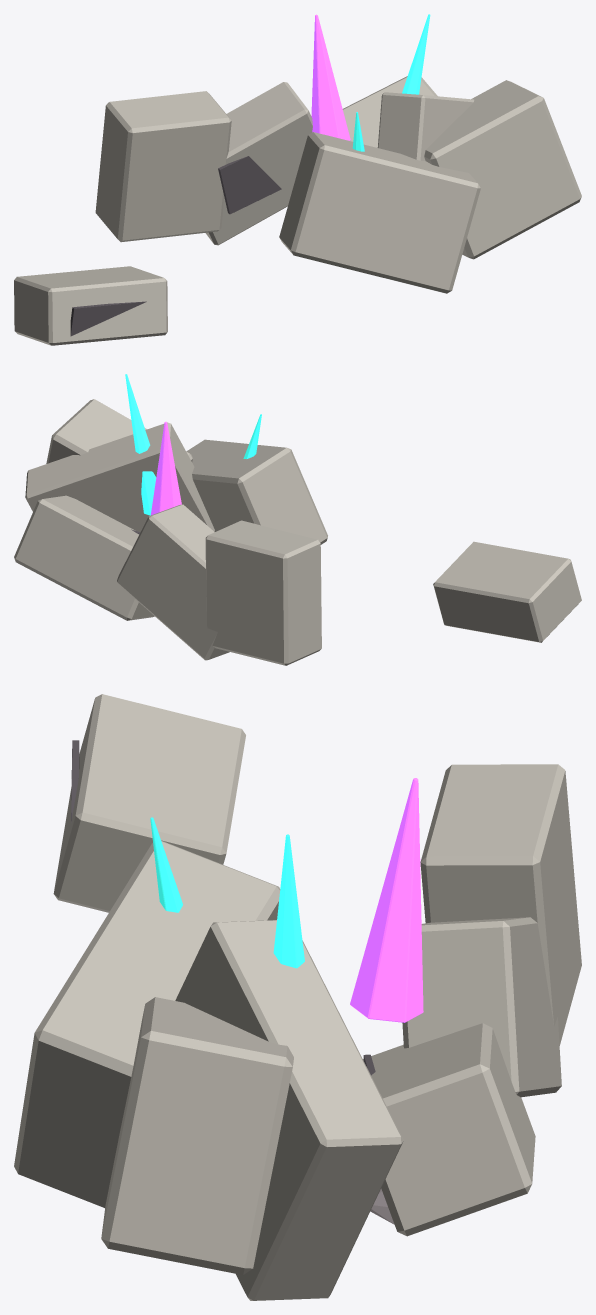
File: runtime.glb
The picture shows the model from 3 angles, top to bottom: view 1: azimuth 30°, elevation 25°; view 2: azimuth 150°, elevation 25°; view 3: azimuth 270°, elevation 25°; orthographic projection. The views are drawn at different scales.
Visible parts, largest first — view 1: crystal-ruins-rubble-cluster-v10_stone_05_nocol, crystal-ruins-rubble-cluster-v10_stone_02_nocol, crystal-ruins-rubble-cluster-v10_stone_04_nocol, crystal-ruins-rubble-cluster-v10_stone_00_nocol, crystal-ruins-rubble-cluster-v10_stone_03_nocol, crystal-ruins-rubble-cluster-v10_stone_01_nocol, crystal-ruins-rubble-cluster-v10_crystal_01_nocol, crystal-ruins-rubble-cluster-v10_fracture_03_nocol, crystal-ruins-rubble-cluster-v10_stone_06_nocol, crystal-ruins-rubble-cluster-v10_fracture_00_nocol, crystal-ruins-rubble-cluster-v10_crystal_00_nocol; view 2: crystal-ruins-rubble-cluster-v10_stone_02_nocol, crystal-ruins-rubble-cluster-v10_stone_00_nocol, crystal-ruins-rubble-cluster-v10_stone_06_nocol, crystal-ruins-rubble-cluster-v10_stone_05_nocol, crystal-ruins-rubble-cluster-v10_stone_03_nocol, crystal-ruins-rubble-cluster-v10_stone_01_nocol, crystal-ruins-rubble-cluster-v10_stone_04_nocol, crystal-ruins-rubble-cluster-v10_crystal_01_nocol, crystal-ruins-rubble-cluster-v10_crystal_00_nocol; view 3: crystal-ruins-rubble-cluster-v10_stone_01_nocol, crystal-ruins-rubble-cluster-v10_stone_04_nocol, crystal-ruins-rubble-cluster-v10_stone_05_nocol, crystal-ruins-rubble-cluster-v10_stone_00_nocol, crystal-ruins-rubble-cluster-v10_stone_02_nocol, crystal-ruins-rubble-cluster-v10_stone_06_nocol, crystal-ruins-rubble-cluster-v10_stone_03_nocol, crystal-ruins-rubble-cluster-v10_crystal_01_nocol, crystal-ruins-rubble-cluster-v10_crystal_00_nocol, crystal-ruins-rubble-cluster-v10_crystal_02_nocol.
Part boxes in pixels (x1,y1,x2,y2): crystal-ruins-rubble-cluster-v10_stone_05_nocol: (279,132,480,293); crystal-ruins-rubble-cluster-v10_stone_02_nocol: (95,91,231,242); crystal-ruins-rubble-cluster-v10_stone_04_nocol: (424,80,581,259); crystal-ruins-rubble-cluster-v10_stone_00_nocol: (14,266,167,345); crystal-ruins-rubble-cluster-v10_stone_03_nocol: (205,82,312,245); crystal-ruins-rubble-cluster-v10_stone_01_nocol: (377,92,474,160); crystal-ruins-rubble-cluster-v10_crystal_01_nocol: (311,14,350,140); crystal-ruins-rubble-cluster-v10_fracture_03_nocol: (218,156,281,214); crystal-ruins-rubble-cluster-v10_stone_06_nocol: (342,76,437,147); crystal-ruins-rubble-cluster-v10_fracture_00_nocol: (70,301,146,336); crystal-ruins-rubble-cluster-v10_crystal_00_nocol: (402,14,430,94); crystal-ruins-rubble-cluster-v10_stone_02_nocol: (205,520,321,665); crystal-ruins-rubble-cluster-v10_stone_00_nocol: (433,541,581,642); crystal-ruins-rubble-cluster-v10_stone_06_nocol: (14,495,154,620); crystal-ruins-rubble-cluster-v10_stone_05_nocol: (186,439,327,544); crystal-ruins-rubble-cluster-v10_stone_03_nocol: (117,504,229,660); crystal-ruins-rubble-cluster-v10_stone_01_nocol: (25,422,214,532); crystal-ruins-rubble-cluster-v10_stone_04_nocol: (46,399,192,463); crystal-ruins-rubble-cluster-v10_crystal_01_nocol: (151,421,181,515); crystal-ruins-rubble-cluster-v10_crystal_00_nocol: (125,374,156,515); crystal-ruins-rubble-cluster-v10_stone_01_nocol: (175,920,403,1300); crystal-ruins-rubble-cluster-v10_stone_04_nocol: (101,997,293,1274); crystal-ruins-rubble-cluster-v10_stone_05_nocol: (14,841,280,1207); crystal-ruins-rubble-cluster-v10_stone_00_nocol: (53,694,245,912); crystal-ruins-rubble-cluster-v10_stone_02_nocol: (420,764,581,1045); crystal-ruins-rubble-cluster-v10_stone_06_nocol: (363,1023,535,1236); crystal-ruins-rubble-cluster-v10_stone_03_nocol: (402,917,561,1097); crystal-ruins-rubble-cluster-v10_crystal_01_nocol: (350,778,423,1022); crystal-ruins-rubble-cluster-v10_crystal_00_nocol: (273,834,304,968); crystal-ruins-rubble-cluster-v10_crystal_02_nocol: (150,817,182,912).
Bounding box in the file's own units: 9.73 × 3.92 × 4.78.
